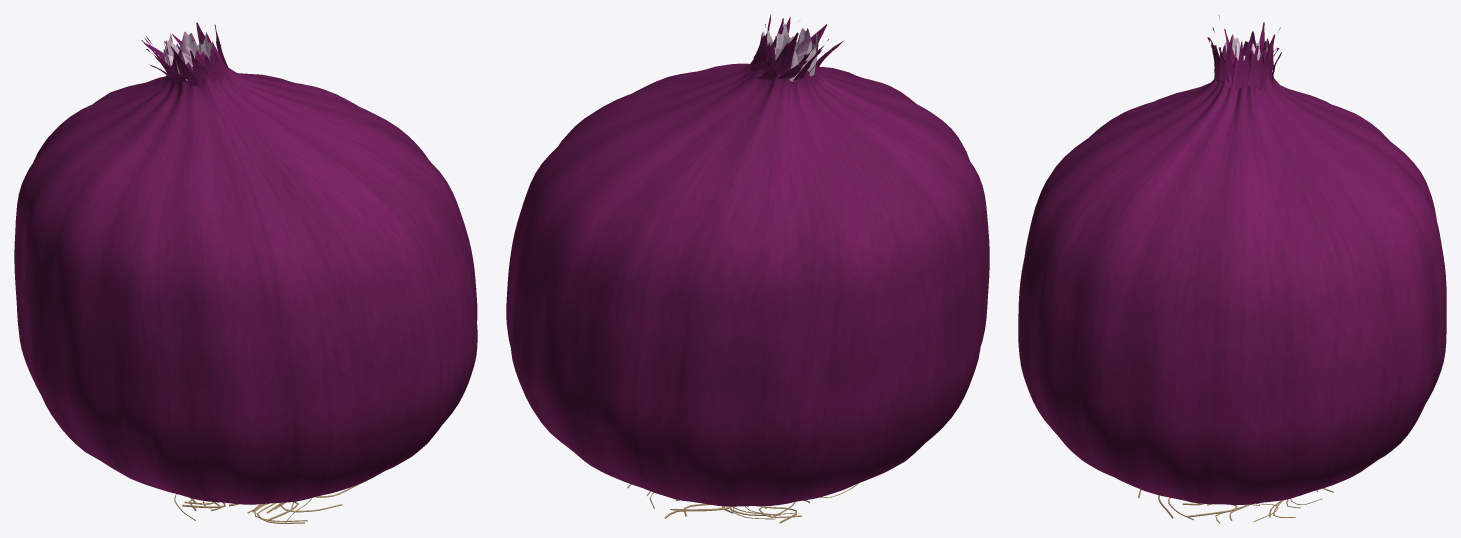
The model's file is onion-reference-intact.glb.
3 renders of one model, left to right at view 1: azimuth 30°, elevation 25°; view 2: azimuth 150°, elevation 25°; view 3: azimuth 270°, elevation 25°, orthographic. The views are drawn at different scales.
Visible parts, largest first — view 1: peelable-layer-0, section-layer-0, papery-neck-frays (×2), root-fibers; view 2: peelable-layer-0, section-layer-0, papery-neck-frays (×2), root-fibers; view 3: section-layer-0, peelable-layer-0, papery-neck-frays, root-fibers.
Boxes of the visible parts, bbox=[...] form: peelable-layer-0: bbox=[14, 33, 308, 504]; section-layer-0: bbox=[182, 31, 477, 502]; papery-neck-frays (×2): bbox=[141, 22, 229, 88]; root-fibers: bbox=[174, 482, 363, 523]; peelable-layer-0: bbox=[578, 33, 989, 506]; section-layer-0: bbox=[506, 23, 867, 483]; papery-neck-frays (×2): bbox=[750, 14, 843, 81]; root-fibers: bbox=[627, 483, 858, 523]; section-layer-0: bbox=[1018, 42, 1436, 504]; peelable-layer-0: bbox=[1052, 31, 1446, 403]; papery-neck-frays: bbox=[1207, 37, 1279, 90]; root-fibers: bbox=[1138, 488, 1333, 523].
Bounding box in the file's own units: 0.1132 × 0.126 × 0.1126.
14 materials, 10 textured.
